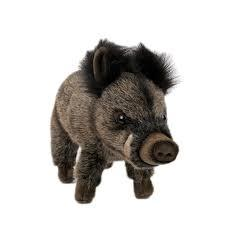wildboar: (47, 36, 184, 205)
